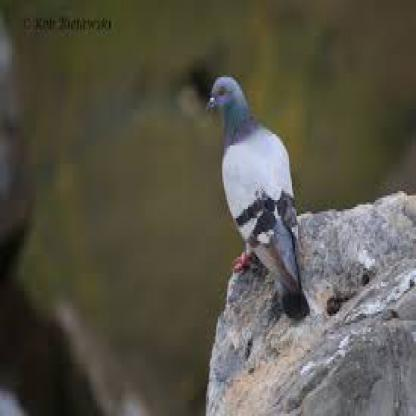Flying Rat: (206, 80, 323, 313)
